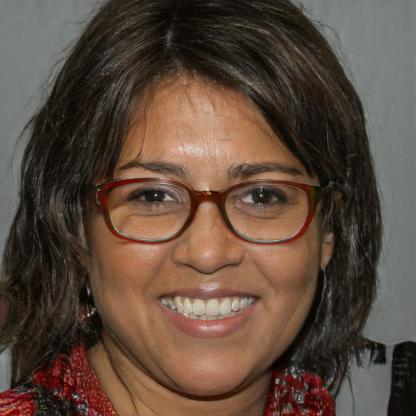glasses: (93, 176, 315, 250)
